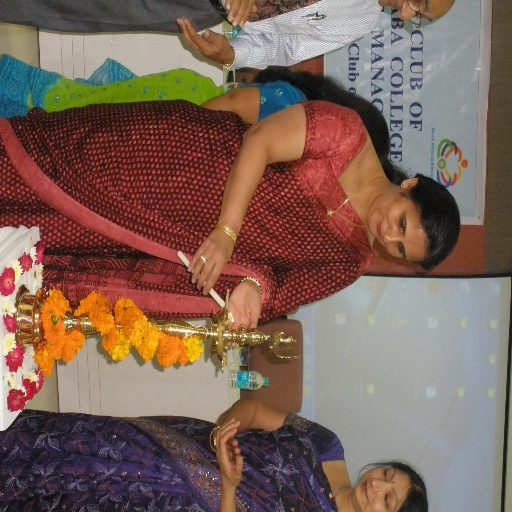hand: (184, 227, 233, 298), (174, 8, 233, 61), (223, 282, 260, 348), (214, 416, 243, 491), (216, 427, 242, 464), (224, 0, 257, 26)
